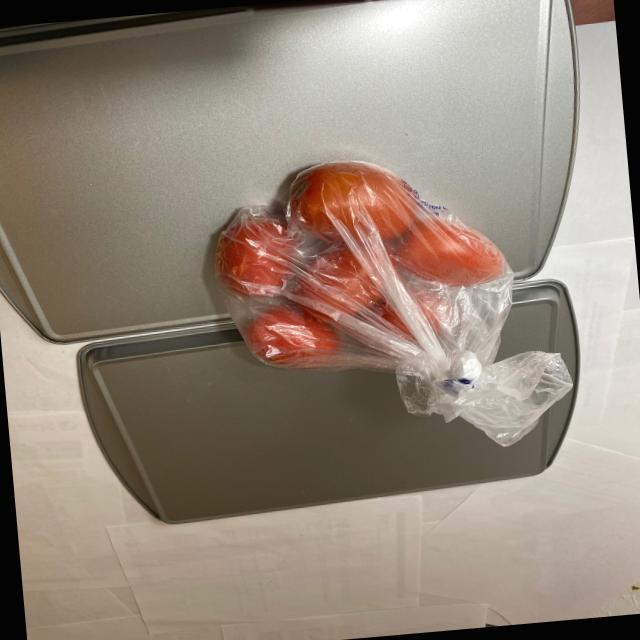tomato: (208, 145, 522, 383)
